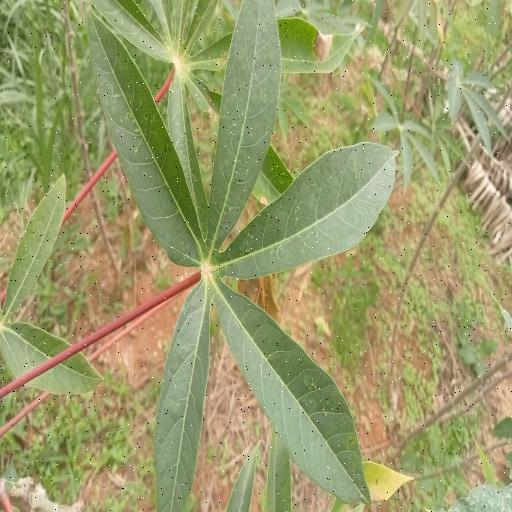Cassava_Healthy: (83, 0, 398, 512)
